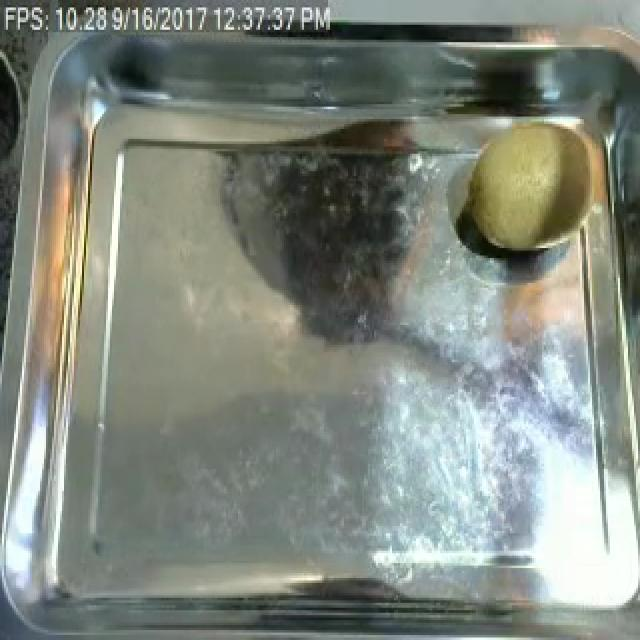Fruit: (454, 109, 610, 266)
